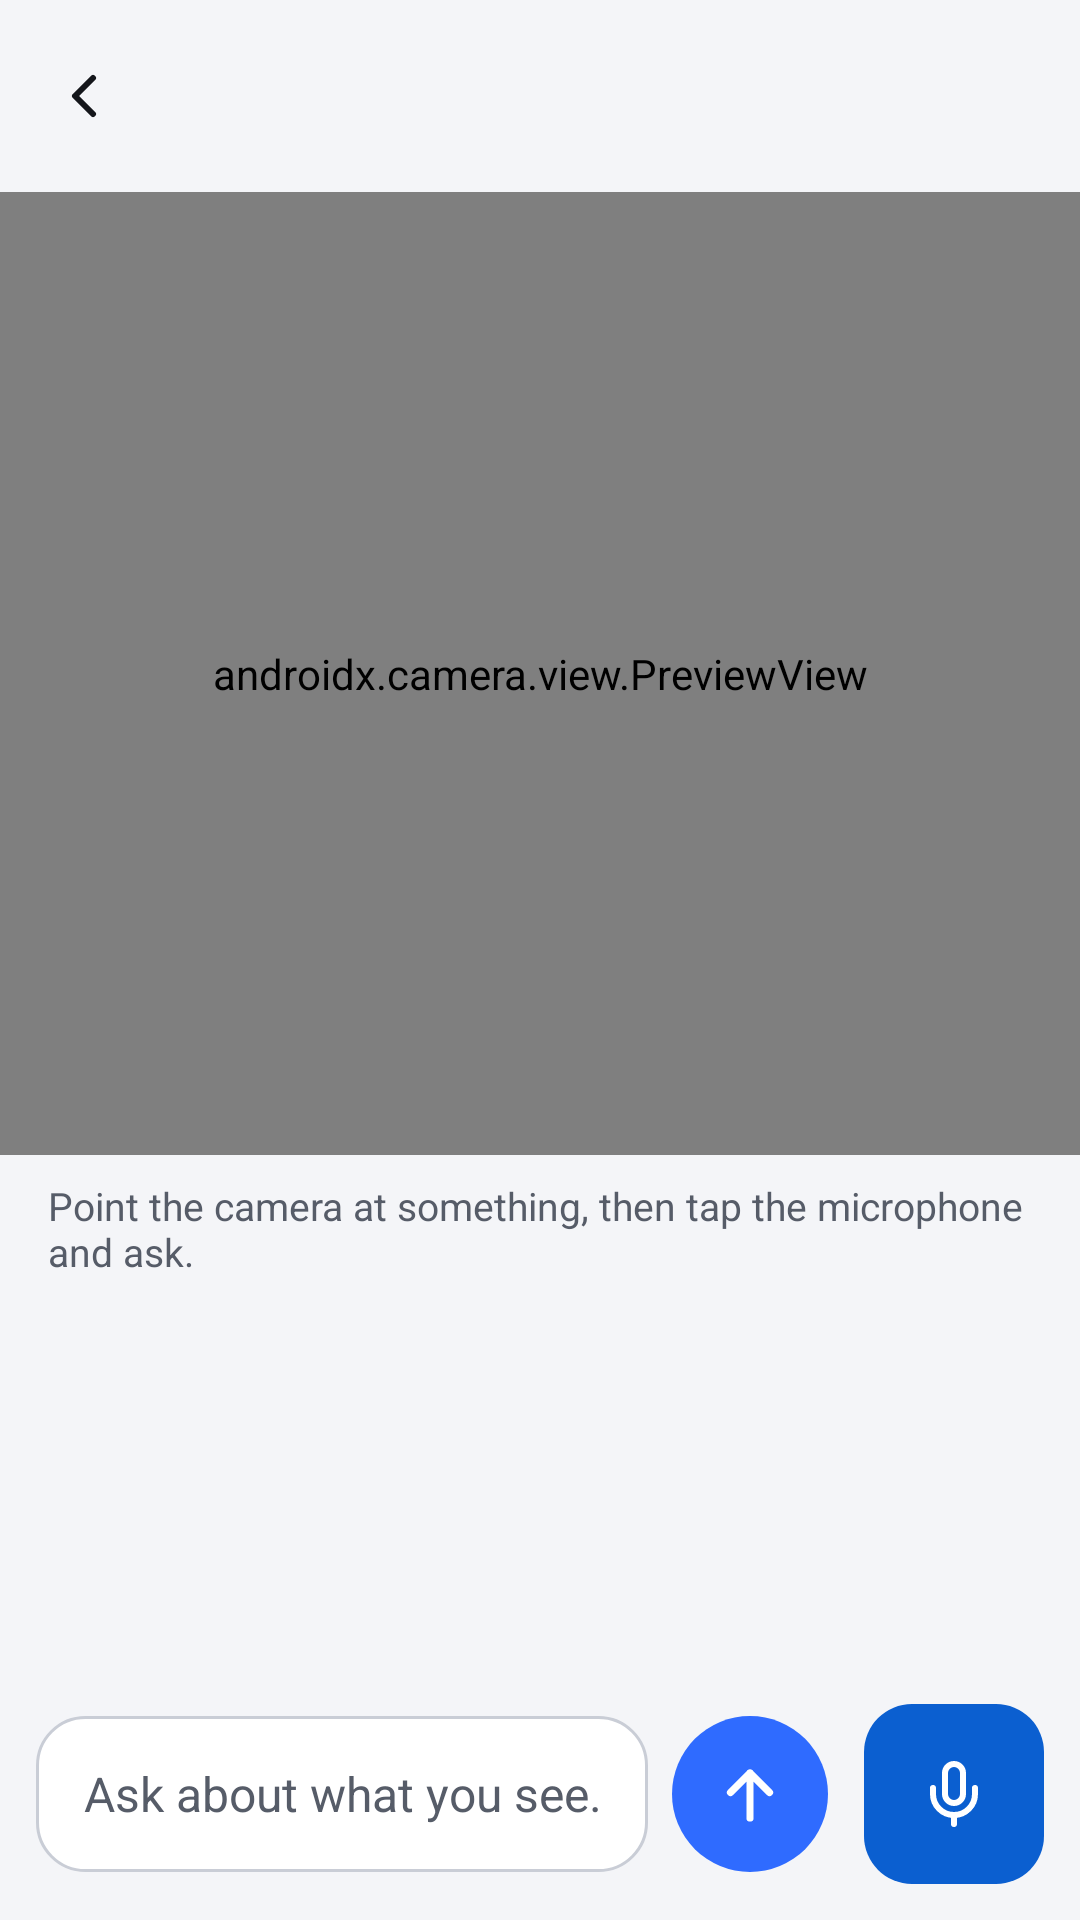

Locate icon controls on the screen. Image size 1080*1920, boxes as (x1, y1, x2, y2).
Send: (672, 1716, 828, 1872)
Speak: (864, 1704, 1044, 1884)
